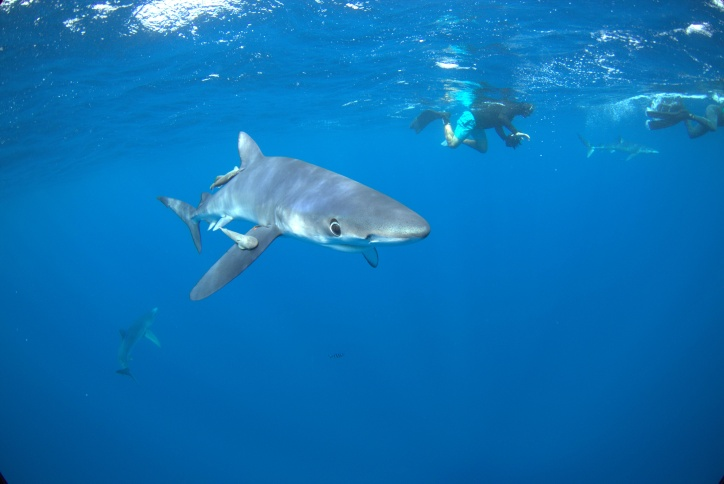Azul: (137, 112, 441, 309)
